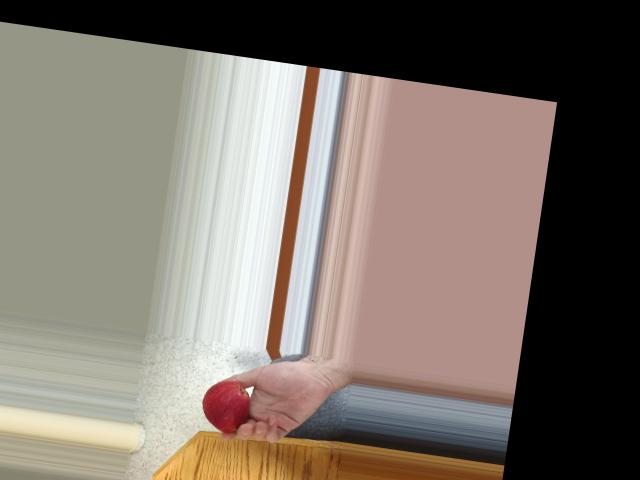apple: (196, 377, 253, 433)
